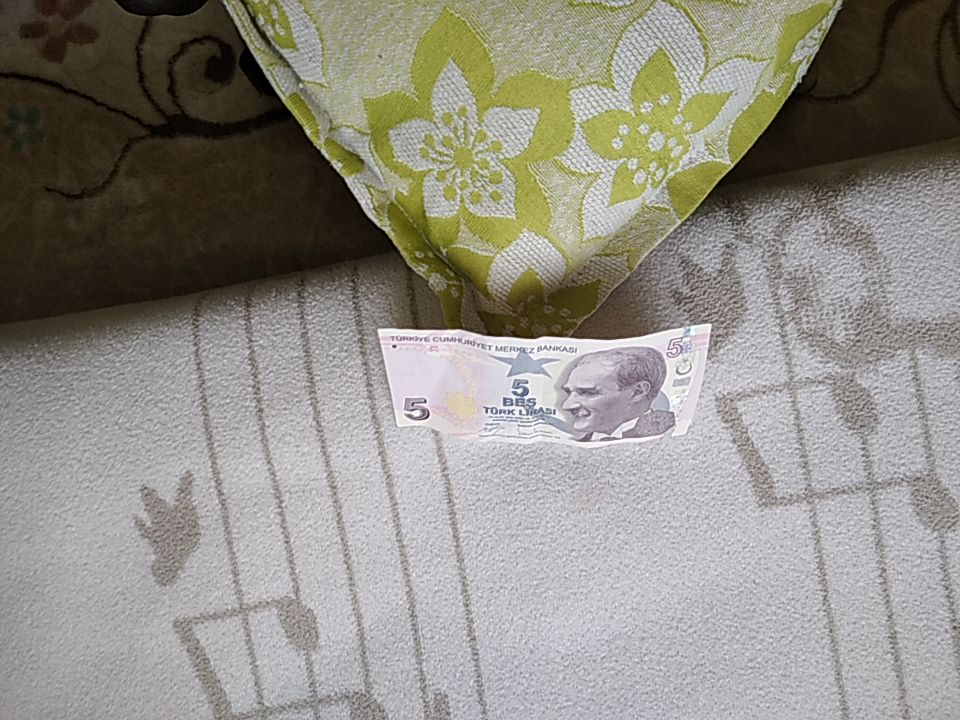5TL: (375, 322, 712, 449)
